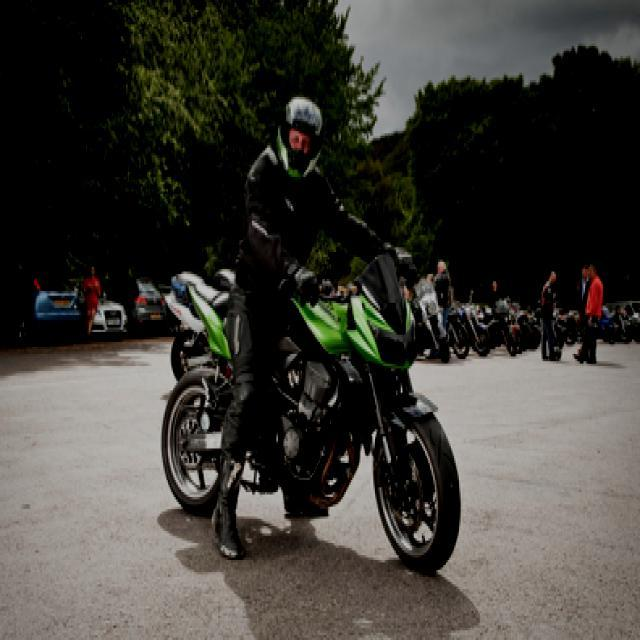Helmet: (266, 82, 329, 190)
